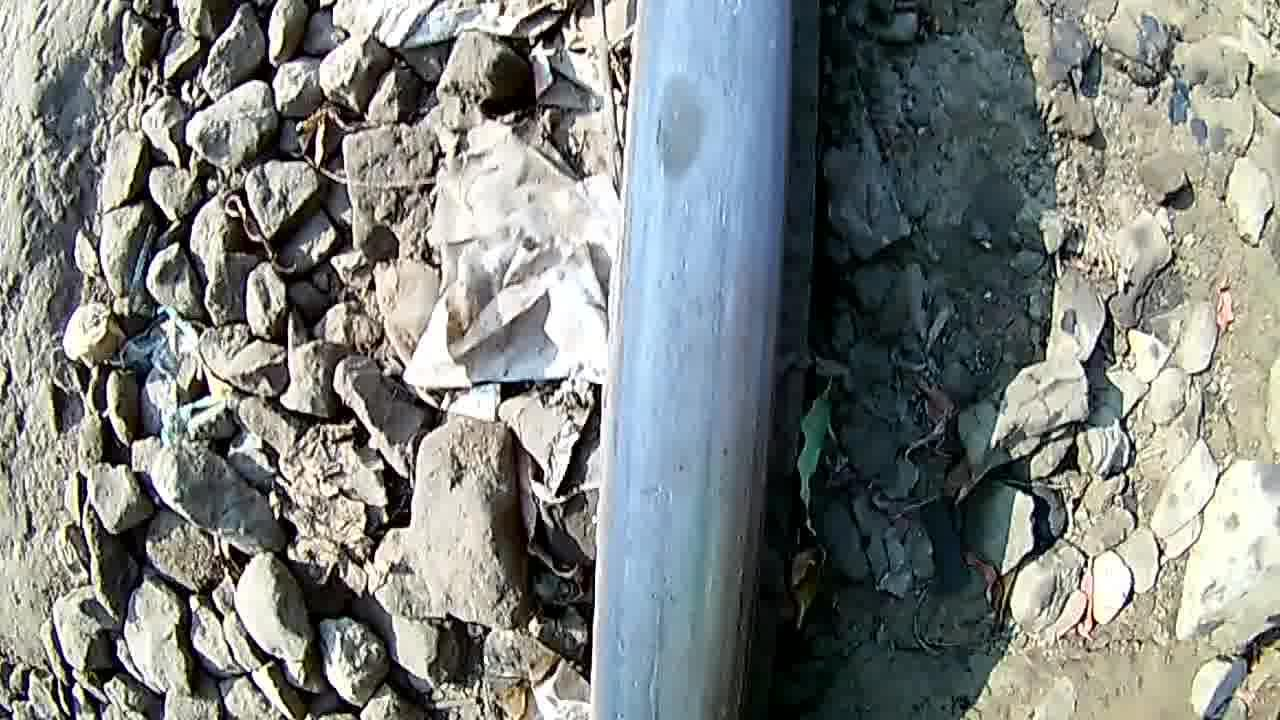bolt_missing: (618, 29, 776, 250)
